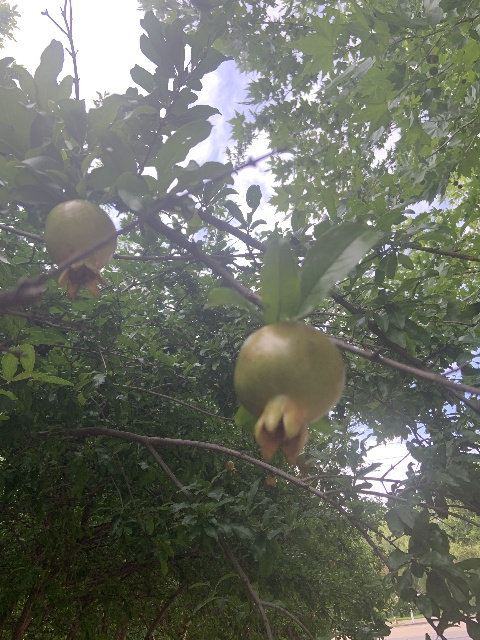mid-growth: (232, 322, 346, 468), (43, 198, 116, 301), (296, 451, 316, 478), (263, 473, 276, 487), (226, 460, 237, 474)
